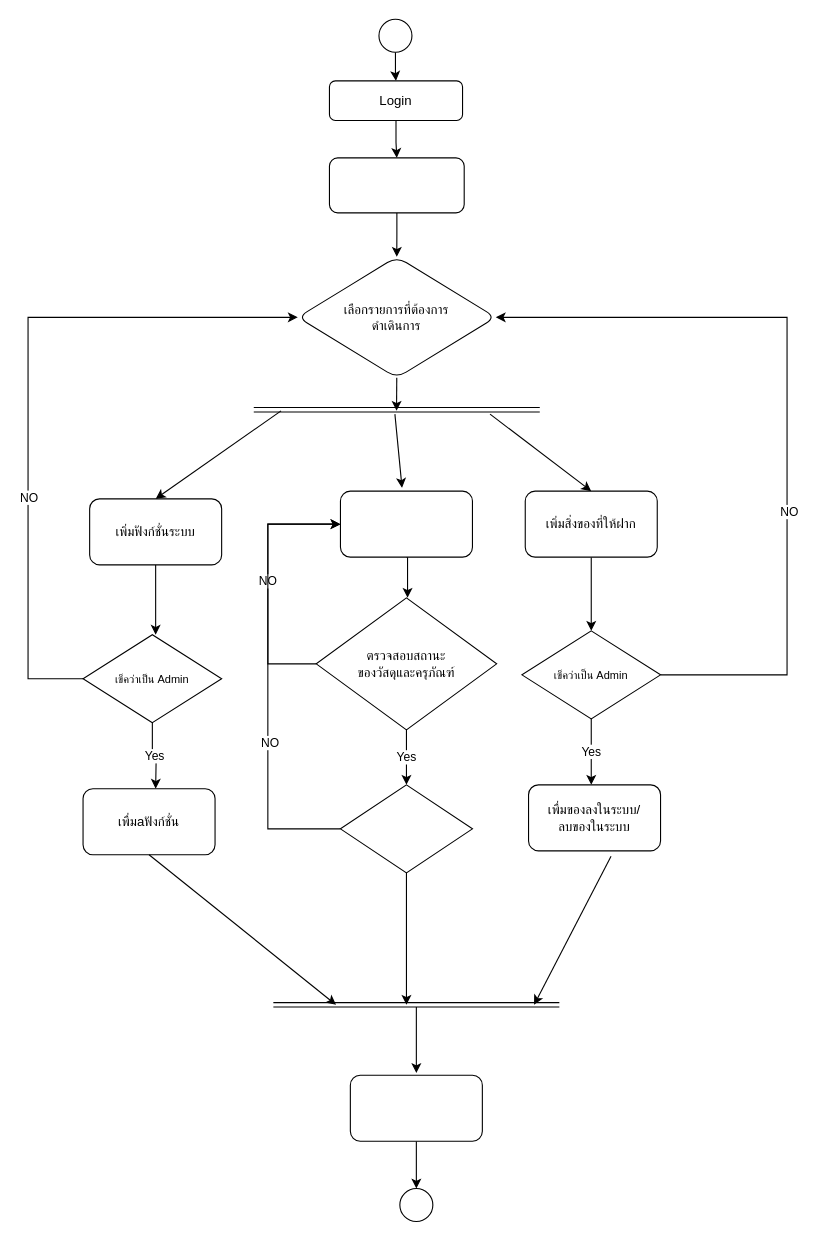
Some shapes in this 816 by 1241 pixel diagram are drawn without their labels. Each missing label, with the centre of its shape:
"ดึงข้อมูลของจากฐานข้อมูล" belongs at point 396,185.
"บันทึกลงระบบ" belongs at point 415,1107.
"ยืนยันการยืม วัสดุ และครุภัณฑ์" belongs at point 405,828.
"เลือกครุภัณฑ์" belongs at point 405,523.
